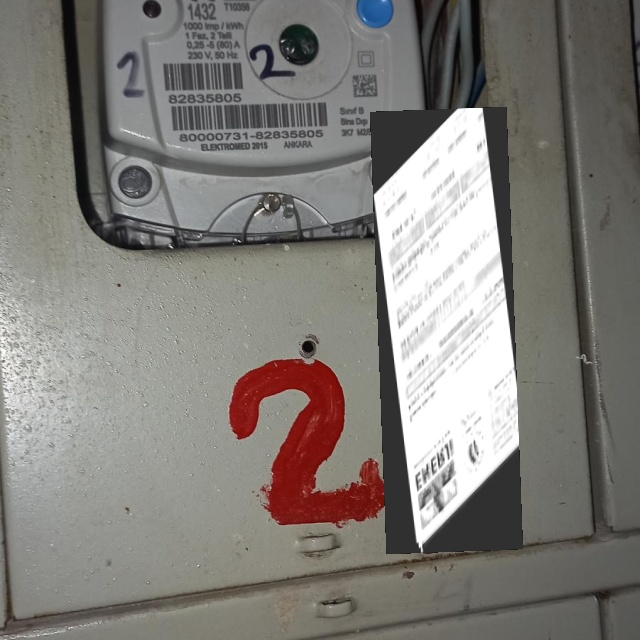electricity-bill: (369, 106, 523, 554)
